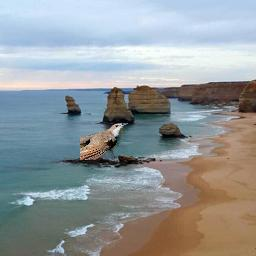Cuckoo: (80, 123, 128, 160)
